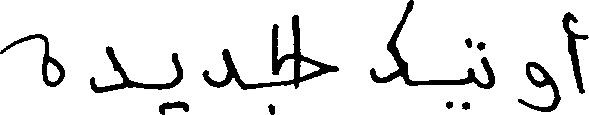X: (273, 10, 337, 114), (0, 29, 64, 91), (371, 2, 406, 88), (519, 57, 559, 114), (91, 41, 127, 97), (569, 7, 588, 98), (202, 44, 234, 92), (172, 48, 183, 114), (482, 37, 494, 93), (468, 33, 475, 113)
